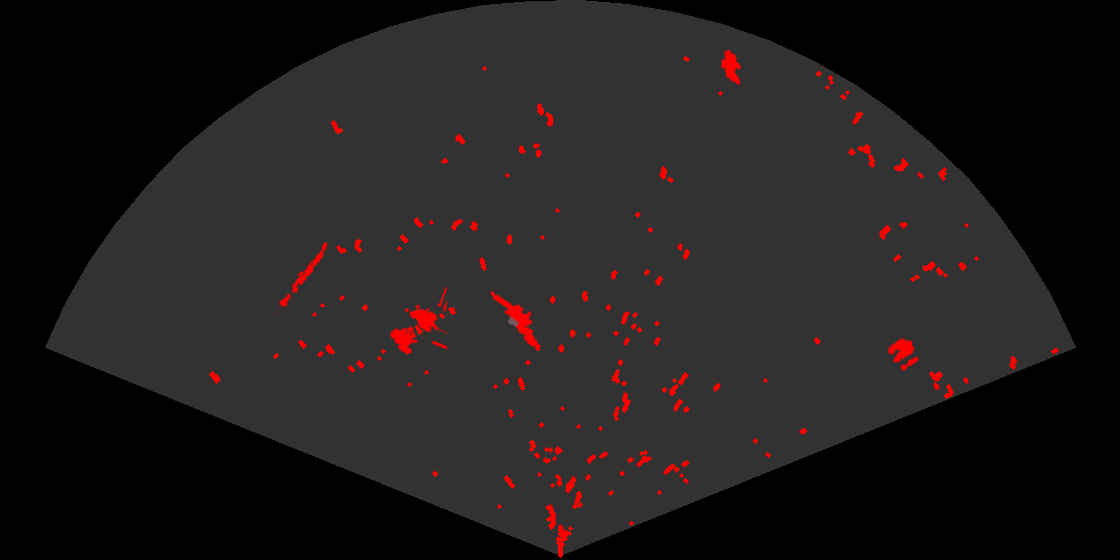AUV: (719, 48, 743, 87)
ball: (886, 336, 921, 372)
cage: (388, 287, 447, 357)
chain: (272, 240, 329, 317)
frogman: (493, 295, 543, 353)
